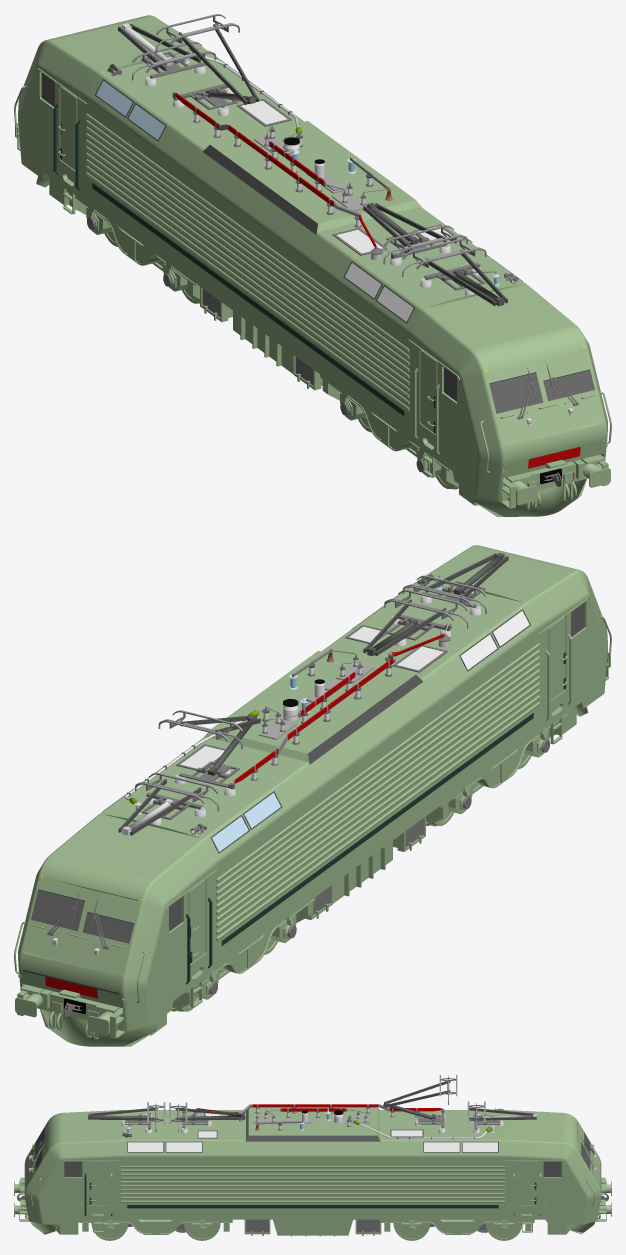
File: train_b.dae
The picture shows the model from 3 angles, top to bottom: view 1: azimuth 30°, elevation 25°; view 2: azimuth 150°, elevation 25°; view 3: azimuth 270°, elevation 25°; orthographic projection. The views are drawn at different scales.
Visible parts, largest first — view 1: Group_034.001, Group_007, Group_001, Group_033, Group_054, Group_052, Baanveger_002, Group_039, Group_041, Group#16_001, Group#7_001, Group_005 (+8 smaller); view 2: Group_034.001, Group_007, Group_001, Group_052, Group_054, Group_033, Baanveger_001, Group_041, Group_039, Group#16_001, Group_004, Group#19_001 (+9 smaller); view 3: Group_034.001, Group_007, Group_001, Group_033, Group_052, Group_054, Group_038, Group_040, Group_029, Group#7_001, Group_031, Group#41_001 (+9 smaller).
Part boxes in pixels (box(x1,y1,x2,y2)): Group_034.001: box(15, 15, 610, 505); Group_007: box(86, 113, 409, 410); Group_001: box(58, 51, 496, 477); Group_033: box(200, 286, 322, 390); Group_054: box(66, 190, 199, 298); Group_052: box(320, 374, 458, 487); Baanveger_002: box(470, 479, 587, 516); Group_039: box(343, 261, 415, 323); Group_041: box(95, 79, 166, 141); Group#16_001: box(172, 84, 238, 116); Group#7_001: box(178, 24, 259, 104); Group_005: box(237, 98, 292, 126); Group_034.001: box(15, 545, 610, 1035); Group_007: box(216, 643, 539, 940); Group_001: box(124, 575, 572, 1007); Group_052: box(426, 711, 569, 825); Group_054: box(171, 897, 315, 1011); Group_033: box(305, 816, 425, 919); Baanveger_001: box(40, 1009, 158, 1046); Group_041: box(210, 791, 282, 853); Group_039: box(459, 609, 530, 671); Group#16_001: box(175, 761, 239, 796); Group_004: box(392, 645, 447, 672); Group#19_001: box(386, 614, 451, 647); Group_034.001: box(14, 1107, 611, 1234); Group_007: box(121, 1166, 504, 1202); Group_001: box(90, 1104, 541, 1232); Group_033: box(244, 1219, 381, 1236); Group_052: box(79, 1219, 232, 1235); Group_054: box(381, 1219, 534, 1235); Group_038: box(127, 1141, 202, 1152); Group_040: box(423, 1141, 498, 1152); Group_029: box(175, 1107, 244, 1120); Group#7_001: box(384, 1080, 450, 1107); Group_031: box(88, 1107, 157, 1120); Group#41_001: box(469, 1107, 536, 1120).
Size of the model in its own units: 3.05 by 19.4 by 5.23.
